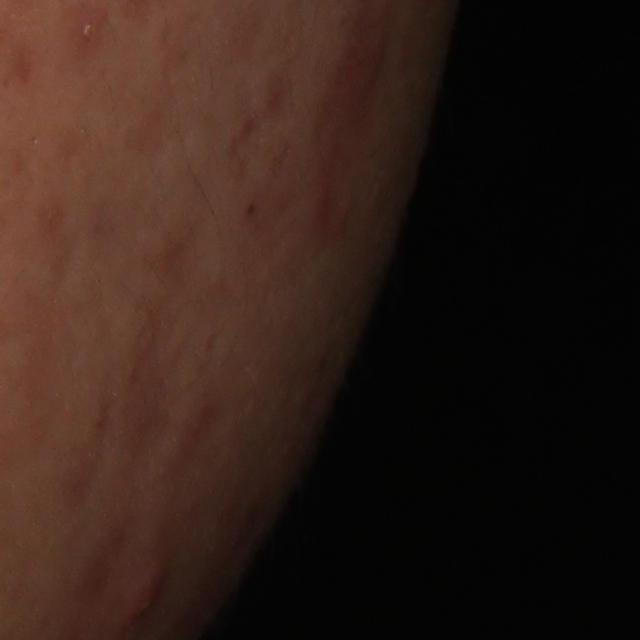papule: (112, 549, 176, 628)
